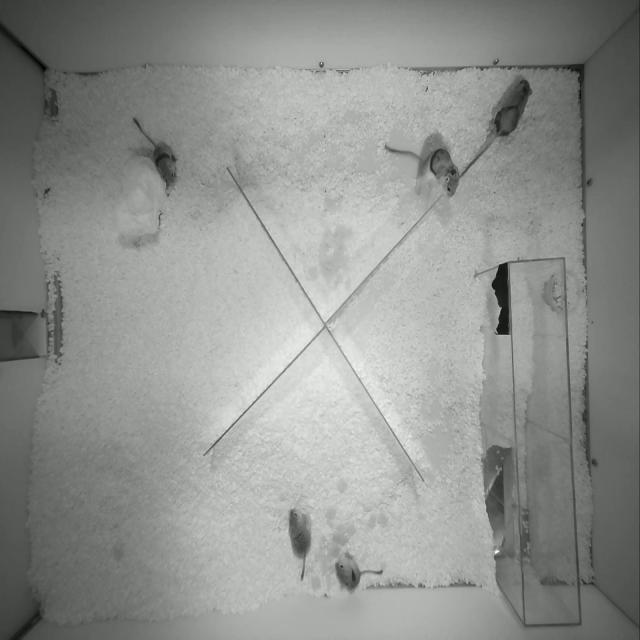adult_back: (461, 78, 532, 177)
adult_front: (385, 145, 460, 196)
pup_fluffy: (288, 509, 311, 580)
pup_h_stripe: (133, 117, 176, 187)
pup_spotted: (334, 551, 383, 591)
